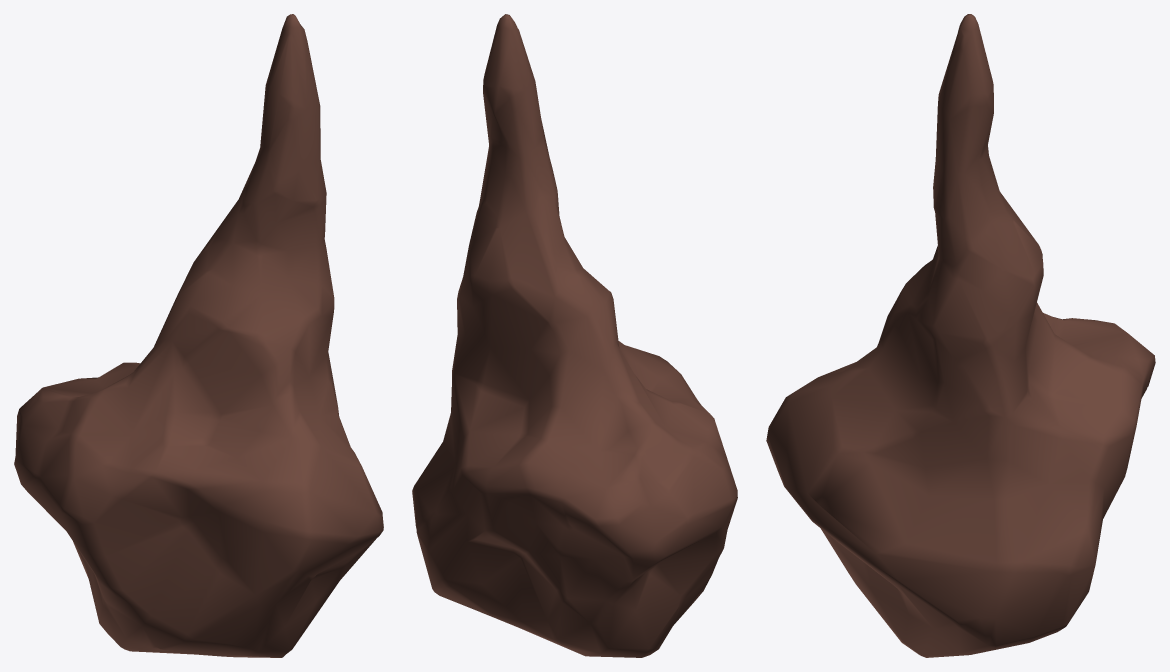
The model's file is p_mesh_hvs_stalagmite_medium_destruction_part01.fbx.
3 renders of one model, left to right at view 1: azimuth 30°, elevation 25°; view 2: azimuth 150°, elevation 25°; view 3: azimuth 270°, elevation 25°, orthographic. The views are drawn at different scales.
Visible parts, largest first — view 1: p_medium_part1; view 2: p_medium_part1; view 3: p_medium_part1.
Part boxes in pixels (x1=…): p_medium_part1: x1=14, y1=14, x2=383, y2=657; p_medium_part1: x1=412, y1=14, x2=737, y2=657; p_medium_part1: x1=766, y1=14, x2=1155, y2=657.
Size of the model in its own units: 4.93 by 9.6 by 5.08.
